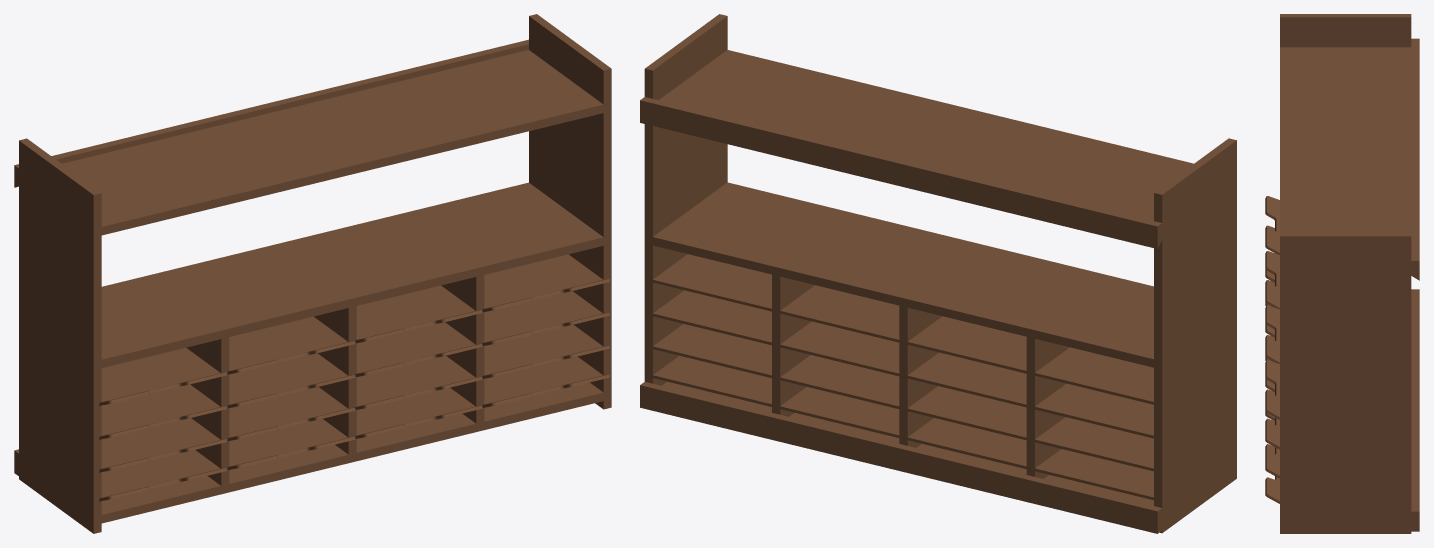
Rendered from wall_mounted_book_case_v2.glb.
The picture shows the model from 3 angles, left to right: view 1: azimuth 30°, elevation 25°; view 2: azimuth 150°, elevation 25°; view 3: azimuth 270°, elevation 25°; orthographic projection. The views are drawn at different scales.
Parts seen in each view (by area): view 1: wall_mounted_book_case_v2; view 2: wall_mounted_book_case_v2; view 3: wall_mounted_book_case_v2.
Boxes of the visible parts, bbox=[...] form: wall_mounted_book_case_v2: bbox=[14, 14, 611, 533]; wall_mounted_book_case_v2: bbox=[640, 14, 1236, 533]; wall_mounted_book_case_v2: bbox=[1265, 14, 1419, 533].
Size of the model in its own units: 48 by 30 by 14.09.
